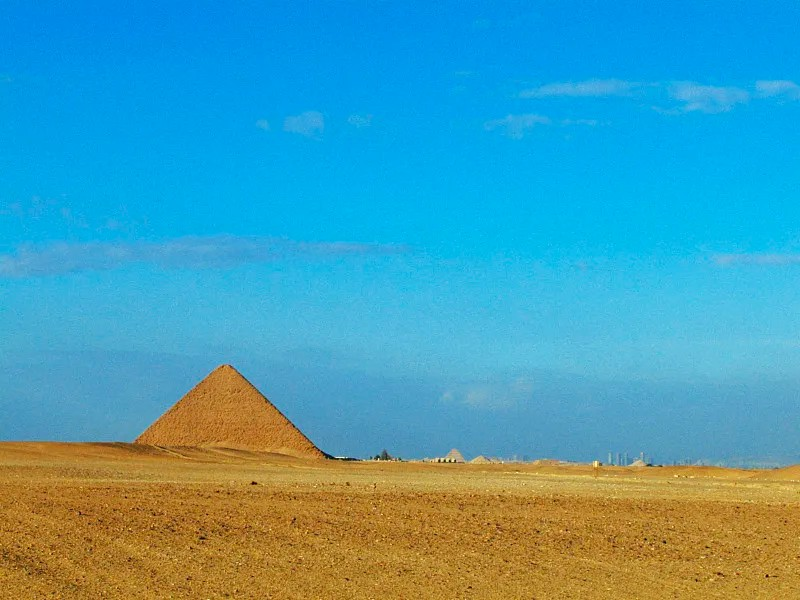Pyramid: (133, 366, 327, 457)
